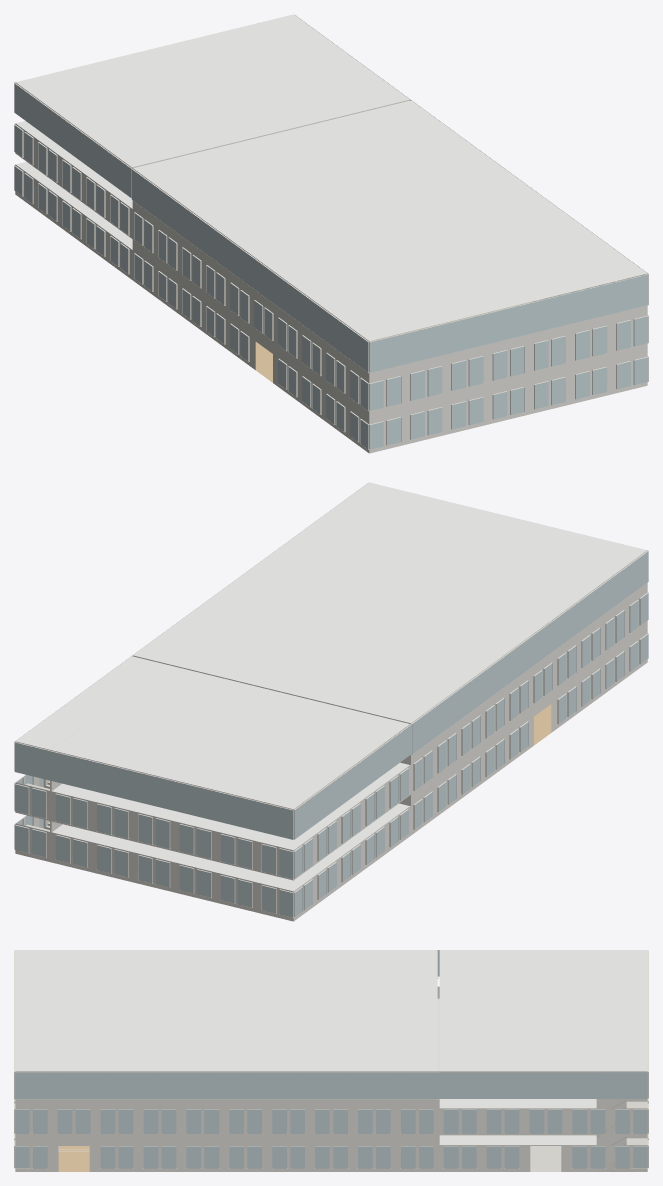
The model's file is Sports_Complex_Interior.fbx.
3 renders of one model, top to bottom at view 1: azimuth 30°, elevation 25°; view 2: azimuth 150°, elevation 25°; view 3: azimuth 270°, elevation 25°, orthographic. The views are drawn at different scales.
Visible parts, largest first — view 1: Sports_Complex_Interior; view 2: Sports_Complex_Interior; view 3: Sports_Complex_Interior.
Boxes of the visible parts, x1,y1,x2,y2 form: Sports_Complex_Interior: (14, 14, 648, 453); Sports_Complex_Interior: (14, 482, 648, 921); Sports_Complex_Interior: (14, 950, 648, 1171).
Size of the model in its own units: 24.3 by 9.3 by 53.3.
